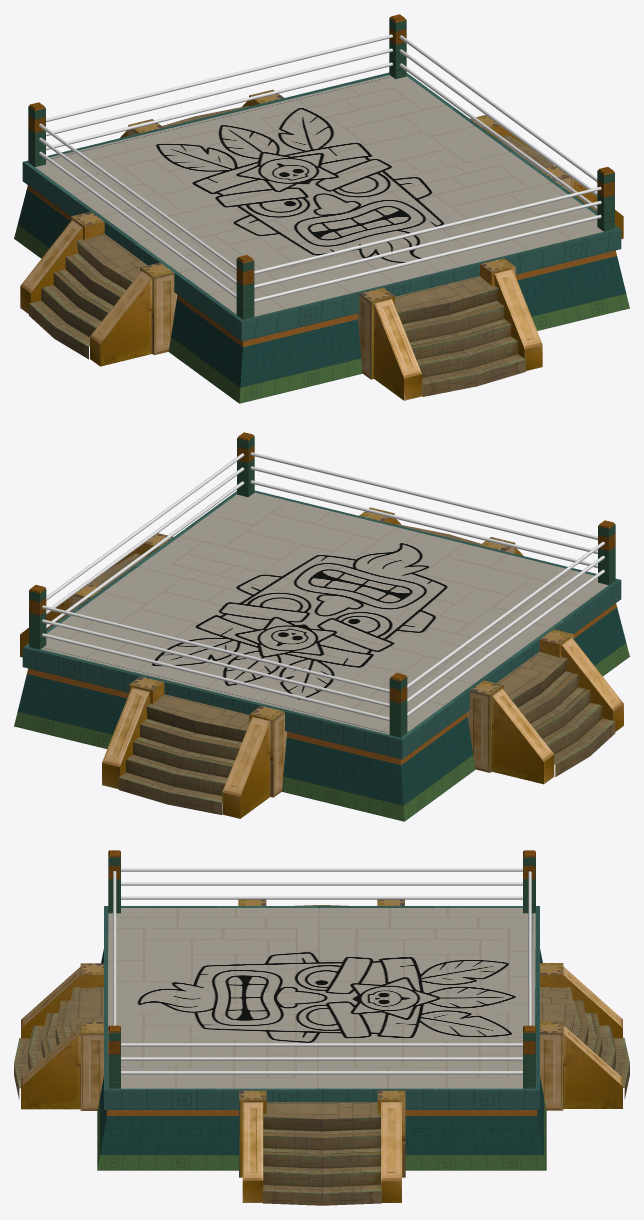
File: Ring.obj
The picture shows the model from 3 angles, top to bottom: view 1: azimuth 30°, elevation 25°; view 2: azimuth 150°, elevation 25°; view 3: azimuth 270°, elevation 25°; orthographic projection.
Parts seen in each view (by area): view 1: 4_Piso_4_Piso, Cuerdas_Ring_Material.004, 4_Piso_3_Azulmarino_Ladrillos_espiral, 4_Piso_1_AzulMarino_base, Escalera_2_8_Escaleras_Frontal, Escalera_4_8_Escaleras_Frontal, 4_Piso_0_Verde_base, Escalera_2_6_Escaleras_Superior, Escalera_4_6_Escaleras_Superior, Escalera_4_7_Escaleras_Material, Escalera_2_7_Escaleras_Material, 4_Piso_2_Naranja_franjas (+7 smaller); view 2: 4_Piso_4_Piso, Cuerdas_Ring_Material.004, 4_Piso_3_Azulmarino_Ladrillos_espiral, 4_Piso_1_AzulMarino_base, Escalera_1_8_Escaleras_Frontal, Escalera_4_8_Escaleras_Frontal, 4_Piso_0_Verde_base, Escalera_1_6_Escaleras_Superior, Escalera_4_6_Escaleras_Superior, Escalera_4_7_Escaleras_Material, Escalera_1_7_Escaleras_Material, 4_Piso_2_Naranja_franjas (+7 smaller); view 3: 4_Piso_4_Piso, 4_Piso_3_Azulmarino_Ladrillos_espiral, Escalera_3_8_Escaleras_Frontal, Cuerdas_Ring_Material.004, 4_Piso_1_AzulMarino_base, Escalera_3_6_Escaleras_Superior, 4_Piso_0_Verde_base, Escalera_2_7_Escaleras_Material, Escalera_1_7_Escaleras_Material, Escalera_2_6_Escaleras_Superior, Escalera_1_6_Escaleras_Superior, Escalera_2_8_Escaleras_Frontal (+7 smaller).
Part boxes in pixels (x1,y1,x2,y2): 4_Piso_4_Piso: [35, 75, 603, 316]; Cuerdas_Ring_Material.004: [39, 34, 601, 302]; 4_Piso_3_Azulmarino_Ladrillos_espiral: [17, 189, 626, 387]; 4_Piso_1_AzulMarino_base: [22, 72, 621, 341]; Escalera_2_8_Escaleras_Frontal: [357, 269, 542, 396]; Escalera_4_8_Escaleras_Frontal: [20, 219, 177, 359]; 4_Piso_0_Verde_base: [14, 225, 629, 403]; Escalera_2_6_Escaleras_Superior: [359, 258, 525, 384]; Escalera_4_6_Escaleras_Superior: [29, 211, 173, 346]; Escalera_4_7_Escaleras_Material: [20, 217, 154, 366]; Escalera_2_7_Escaleras_Material: [371, 264, 542, 400]; 4_Piso_2_Naranja_franjas: [27, 185, 616, 346]; 4_Piso_4_Piso: [41, 492, 608, 734]; Cuerdas_Ring_Material.004: [42, 452, 604, 721]; 4_Piso_3_Azulmarino_Ladrillos_espiral: [17, 607, 626, 805]; 4_Piso_1_AzulMarino_base: [22, 490, 621, 759]; Escalera_1_8_Escaleras_Frontal: [102, 687, 286, 814]; Escalera_4_8_Escaleras_Frontal: [467, 637, 623, 776]; 4_Piso_0_Verde_base: [14, 643, 629, 821]; Escalera_1_6_Escaleras_Superior: [119, 676, 284, 802]; Escalera_4_6_Escaleras_Superior: [470, 629, 614, 764]; Escalera_4_7_Escaleras_Material: [490, 634, 623, 784]; Escalera_1_7_Escaleras_Material: [102, 682, 273, 818]; 4_Piso_2_Naranja_franjas: [27, 603, 616, 764]; 4_Piso_4_Piso: [108, 908, 535, 1088]; 4_Piso_3_Azulmarino_Ladrillos_espiral: [100, 949, 543, 1154]; Escalera_3_8_Escaleras_Frontal: [242, 1102, 401, 1205]; Cuerdas_Ring_Material.004: [113, 868, 531, 1074]; 4_Piso_1_AzulMarino_base: [104, 906, 539, 1109]; Escalera_3_6_Escaleras_Superior: [239, 1090, 405, 1193]; 4_Piso_0_Verde_base: [97, 1098, 546, 1170]; Escalera_2_7_Escaleras_Material: [21, 975, 103, 1109]; Escalera_1_7_Escaleras_Material: [540, 974, 622, 1108]; Escalera_2_6_Escaleras_Superior: [14, 963, 103, 1088]; Escalera_1_6_Escaleras_Superior: [540, 963, 629, 1087]; Escalera_2_8_Escaleras_Frontal: [14, 967, 103, 1110].
Bounding box in the file's own units: 14.4 × 3.5 × 14.4.
